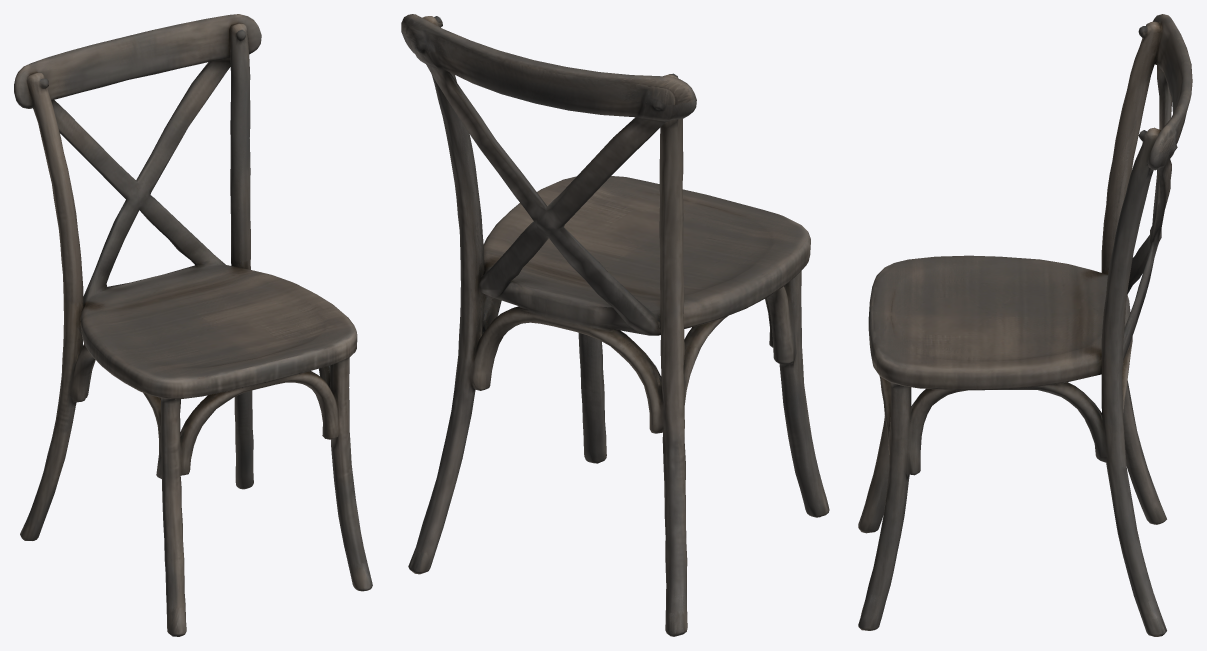
The model's file is Chair_Crossback_Ash__0320032108_texture.glb.
3 views of the same model, side by side, from view 1: azimuth 30°, elevation 25°; view 2: azimuth 150°, elevation 25°; view 3: azimuth 270°, elevation 25° (orthographic). The views are drawn at different scales.
Visible parts, largest first — view 1: Mesh_0.003; view 2: Mesh_0.003; view 3: Mesh_0.003.
Part boxes in pixels (x1,y1,x2,y2): Mesh_0.003: (14,14,372,636); Mesh_0.003: (401,14,829,636); Mesh_0.003: (858,14,1192,636).
Bounding box in the file's own units: 0.5013 × 0.9144 × 0.5445.
Materials: 1 (1 with a texture image).
